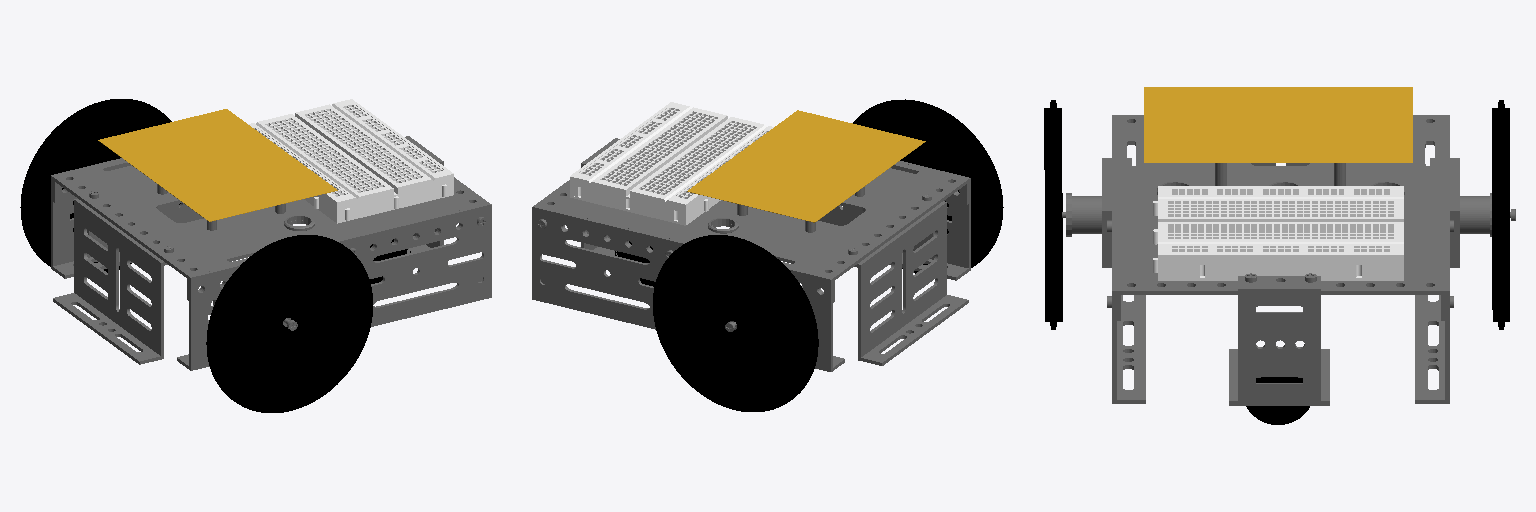
The robot description file, URDF, robot "sonar_mexatron":
<?xml version="1.0" encoding="utf-8"?>
<robot name="sonar_mexatron">


<material name="gray">
<color rgba="0.5 0.5 0.5 1.0"/>
</material>
<material name="black">
<color rgba="0 0 0 1"/>
</material>
<material name="white">
<color rgba="1 1 1 1"/>
</material>
<material name="gold">
  <color rgba="0.9 0.7 0.2 1.0"/>
</material>

<link name="base_link">
  <inertial>
    <mass value="1.0"/>
    <inertia ixx="0.015" iyy="0.0375" izz="0.0375"
    ixy="0" ixz="0" iyz="0"/>
  </inertial>
  <visual>
    <origin
      xyz="0 0 0"
      rpy="0 0 1.5708" />
    <geometry>
      <mesh
        filename="package://sonar_mexatron/meshes/chassis_rsz.stl"/>
    </geometry>
<material name="gray"/>
  </visual>
  <collision>
    <origin
      xyz="0 0 0"
      rpy="0 3 0" />
    <geometry>
      <box size='0.15 0.15 0.02'/>
    </geometry>
  </collision>
</link>

<!-- BreadBoard -->
<link name="breadboard">
  <inertial>
    <origin
      xyz="0 0 0"
      rpy="0 0 0" />
    <mass
      value="0.001" />
    <inertia
      ixx="0.01"
      ixy="0.01"
      ixz="0.01"
      iyy="0.01"
      iyz="0.01"
      izz="0.01" />
  </inertial>
  <visual>
    <origin
      xyz="0 0 0"
      rpy="0 0 0" />
    <geometry>
      <mesh
        filename="package://sonar_mexatron/meshes/breadboard_rsz.stl" />
    </geometry>
<material name="white"/>
  </visual>
  <collision>
    <origin
      xyz="0 0 0"
      rpy="0 0 0" />
    <geometry>
      <mesh
        filename="package://sonar_mexatron/meshes/breadboard_rsz.stl" />
    </geometry>
  </collision>
</link>

<joint name="breadboard_to_base" type="fixed">
  <parent link="base_link"/>
  <child link="breadboard"/>
  <origin xyz="0.034 0 0.015" rpy="0 0 1.5708"/>
</joint>

<!-- PCB-->
<link name="pcb_link">
  <inertial>
    <origin
      xyz="0 0 0"
      rpy="0 0 0" />
    <mass
      value="0.001" />
    <inertia
      ixx="0.01"
      ixy="0.01"
      ixz="0.01"
      iyy="0.01"
      iyz="0.01"
      izz="0.01" />
  </inertial>
  <visual>
    <origin
      xyz="0 0 0"
      rpy="0 0 0" />
    <geometry>
      <mesh
        filename="package://sonar_mexatron/meshes/pcb_rsz.stl" />
    </geometry>
<material name="gold"/>
  </visual>
  <collision>
    <origin
      xyz="0 0 0"
      rpy="0 0 0" />
    <geometry>
      <box size='0.06 0.09 0.01'/>
    </geometry>
  </collision>
</link>

<joint name="pcb_to_base" type="fixed">
  <origin xyz="-0.018 0 0.026" rpy="0 0 1.5708"/>
  <parent link="base_link"/>
  <child link="pcb_link"/>
  <axis xyz="0 0 0"/>
</joint>

<!--Left Wheel-->
  <link
    name="wheellft">
  <inertial>
    <mass value="0.1"/>
    <inertia ixx="5.1458e-5" iyy="5.1458e-5" izz="6.125e-5"
    ixy="0" ixz="0" iyz="0"/>
  </inertial>
    <visual>
      <origin
        xyz="0 0 0"
        rpy="0 1.5708 0" />
      <geometry>
        <mesh
          filename="package://sonar_mexatron/meshes/wheel_rsz.stl" />
      </geometry>
<material name="black"/>
    </visual>
    <collision>
      <origin
        xyz="0 0 0"
        rpy="0 0 0" />
      <geometry>
        <cylinder length="0.01" radius="0.0385"/>
      </geometry>
    </collision>
  </link>

  <joint
    name="wheelleft"
    type="continuous">
    <parent link="base_link" />
    <child link="wheellft" />
    <origin xyz="-0.0345 0.075 -0.012" rpy="-1.57 0 0"/>
    <axis xyz="0 0 1"/>
  </joint>

<!--Rigth Wheel-->
  <link
    name="wheelrgt">
  <inertial>
    <mass value="0.1"/>
    <inertia ixx="5.1458e-5" iyy="5.1458e-5" izz="6.125e-5"
    ixy="0" ixz="0" iyz="0"/>
  </inertial>
    <visual>
      <origin
        xyz="0 0 0"
        rpy="0 1.5708 0" />
      <geometry>
        <mesh
          filename="package://sonar_mexatron/meshes/wheel_rsz.stl" />
      </geometry>
<material name="black"/>
    </visual>
    <collision>
      <origin
        xyz="0 0 0"
        rpy="0 0 0" />
      <geometry>
        <cylinder length="0.01" radius="0.0385"/>
      </geometry>
    </collision>
  </link>


  <joint
    name="wheelright"
    type="continuous">
    <parent link="base_link" />
    <child link="wheelrgt" />
    <origin xyz="-0.0345 -0.075 -0.012" rpy="-1.57 0 0"/>
    <axis xyz="0 0 1"/>
  </joint>


<!-- Ball Caster--> 
  <link
    name="caster_link">
  <inertial>
    <mass value="0.1"/>
    <inertia ixx="5.1458e-5" iyy="5.1458e-5" izz="6.125e-5"
    ixy="0" ixz="0" iyz="0"/>
  </inertial>
  
    <ode>
      <mu>0</mu>
      <mu2>0</mu2>
      <fdir1> 0 0 0</fdir1>
      <slip1>0</slip1>
      <slip2>0</slip2>
    </ode>
  
    <visual>
      <origin
        xyz="0 0 0"
        rpy="0 0 0" />
      <geometry>
        <mesh
          filename="package://sonar_mexatron/meshes/ballcaster_rsz.stl" />
      </geometry>
<material name="black"/>

    </visual>
    <collision>
      <origin
        xyz="0 0 0"
        rpy="0 0 0" />
      <geometry>
        <sphere radius="0.0125"/>
      </geometry>
    </collision>
  </link>

  <joint
    name="caster_joint"
    type="fixed">
    <origin
        xyz="0.052 0 -0.034"
        rpy="0 0 0" />
    <parent
      link="base_link" />
    <child
      link="caster_link" />
    <axis
      xyz="0 0 1" />
  </joint>

<link
    name="sonar_1">
  <inertial>
    <mass value="0.1"/>
    <inertia ixx="5.1458e-5" iyy="5.1458e-5" izz="6.125e-5"
    ixy="0" ixz="0" iyz="0"/>
  </inertial>
    <visual>
      <origin
        xyz="0 0 0"
        rpy="0 0 0" />
      <geometry>
        <mesh
          filename="package://sonar_mexatron/meshes/sonar.stl" />
      </geometry>
<material name="white"/>
    </visual>
    <collision>
      <origin
        xyz="0 0 0"
        rpy="0 0 0" />
      <geometry>
        <box size="0.01 0.01 0.01"/>
      </geometry>
    </collision>
  </link>
  
  <joint
    name="sonar_1_joint"
    type="fixed">
    <origin
        xyz="0.052 0 0.03"
        rpy="0 -0.07 0" />
    <parent
      link="base_link" />
    <child
      link="sonar_1" />
    <axis
      xyz="0 0 1" />
  </joint>

<link
    name="sonar_2">
  <inertial>
    <mass value="0.1"/>
    <inertia ixx="5.1458e-5" iyy="5.1458e-5" izz="6.125e-5"
    ixy="0" ixz="0" iyz="0"/>
  </inertial>
    <visual>
      <origin
        xyz="0 0 0"
        rpy="0 0 0" />
      <geometry>
        <mesh
          filename="package://sonar_mexatron/meshes/sonar.stl" />
      </geometry>
<material name="white"/>
    </visual>
    <collision>
      <origin
        xyz="0 0 0"
        rpy="0 0 0" />
      <geometry>
        <box size="0.01 0.01 0.01"/>
      </geometry>
    </collision>
  </link>
  
  <joint
    name="sonar_2_joint"
    type="fixed">
    <origin
        xyz="0.052 0.05 0.03"
        rpy="0 -0.07 1.2" />
    <parent
      link="base_link" />
    <child
      link="sonar_2" />
    <axis
      xyz="0 0 1" />
  </joint>

<link
    name="sonar_3">
  <inertial>
    <mass value="0.1"/>
    <inertia ixx="5.1458e-5" iyy="5.1458e-5" izz="6.125e-5"
    ixy="0" ixz="0" iyz="0"/>
  </inertial>
    <visual>
      <origin
        xyz="0 0 0"
        rpy="0 0 0" />
      <geometry>
        <mesh
          filename="package://sonar_mexatron/meshes/sonar.stl" />
      </geometry>
<material name="white"/>
    </visual>
    <collision>
      <origin
        xyz="0 0 0"
        rpy="0 0 0" />
      <geometry>
        <box size="0.01 0.01 0.01"/>
      </geometry>
    </collision>
  </link>
  
  <joint
    name="sonar_3_joint"
    type="fixed">
    <origin
        xyz="0.052 -0.05 0.03"
        rpy="0 -0.07 -1.2" />
    <parent
      link="base_link" />
    <child
      link="sonar_3" />
    <axis
      xyz="0 0 1" />
  </joint>


<gazebo>
  <plugin name="differential_drive_controller" filename="libgazebo_ros_diff_drive.so">
    <commandTopic>cmd_vel</commandTopic>
    <odometryTopic>odom</odometryTopic>
    <odometryFrame>odom</odometryFrame>
    <odometrySource>world</odometrySource>
    <publishOdomTF>true</publishOdomTF>
    <robotBaseFrame>base_link</robotBaseFrame>
    <publishWheelTF>false</publishWheelTF>
    <publishTf>true</publishTf>
    <publishWheelJointState>true</publishWheelJointState>
    <legacyMode>false</legacyMode>
    <updateRate>30</updateRate>
    <leftJoint>wheelleft</leftJoint>
    <rightJoint>wheelright</rightJoint>
    <wheelSeparation>0.78</wheelSeparation>
    <wheelDiameter>0.1</wheelDiameter>
    <wheelAcceleration>0.5</wheelAcceleration>
    <wheelTorque>50</wheelTorque>
    <rosDebugLevel>na</rosDebugLevel>
  </plugin>
</gazebo>

<gazebo reference="base_link">
  <material>Gazebo/Grey</material>
</gazebo>
<gazebo reference="breadboard">
  <material>Gazebo/White</material>
</gazebo>
<gazebo reference="pcb_link">
  <material>Gazebo/Gold</material>
</gazebo>
<gazebo reference="sonar_1">
  <material>Gazebo/White</material>
</gazebo>
<gazebo reference="sonar_2">
  <material>Gazebo/White</material>
</gazebo>
<gazebo reference="sonar_3">
  <material>Gazebo/White</material>
</gazebo>
<gazebo reference="caster_link">
  <material>Gazebo/Black</material>
  <mu1>0</mu1>
  <mu2>0</mu2>
<minDepth>0.001</minDepth>
  <kp>100000000</kp>
  <kd>1</kd>
</gazebo>
<gazebo reference="wheelrgt">
  <material>Gazebo/Black</material>
  <minDepth>0.001</minDepth>
  <kp>100000000</kp>
  <kd>1</kd>
</gazebo>
<gazebo reference="wheellft">
  <material>Gazebo/Black</material>
  <minDepth>0.001</minDepth>
  <kp>100000000</kp>
  <kd>1</kd>
</gazebo>


<gazebo reference="sonar_1">        
   <sensor type="ray" name="front_sonar">
      <pose>0 0 0 0 0 0</pose>
      <visualize>true</visualize>
      <update_rate>50</update_rate>
      <ray>
         <scan>
            <horizontal>
               <samples>10</samples>
               <resolution>1</resolution> 
               <min_angle>-0.14835</min_angle>
               <max_angle>0.14835</max_angle>
            </horizontal>
            <vertical>
               <samples>10</samples>
               <resolution>1</resolution> 
               <min_angle>-0.02</min_angle>
               <max_angle>0.02</max_angle> 
            </vertical>
         </scan>
         <range>
            <min>0.01</min>
            <max>10</max>
            <resolution>0.02</resolution>
         </range>
      </ray>
      <plugin filename="libgazebo_ros_range.so" name="gazebo_ros_range">
         <gaussianNoise>0.005</gaussianNoise>
         <alwaysOn>true</alwaysOn>
         <updateRate>50</updateRate>
         <topicName>front_sonar</topicName>
         <frameName>sonar_1</frameName>
         <radiation>INFRARED</radiation>
         <fov>0.1</fov>
      </plugin>
   </sensor>  
   </gazebo>

<gazebo reference="sonar_2">        
   <sensor type="ray" name="left_sonar">
      <pose>0 0 0 0 0 0</pose>
      <visualize>true</visualize>
      <update_rate>50</update_rate>
      <ray>
         <scan>
            <horizontal>
               <samples>10</samples>
               <resolution>1</resolution> 
               <min_angle>-0.14835</min_angle>
               <max_angle>0.14835</max_angle>
            </horizontal>
            <vertical>
               <samples>10</samples>
               <resolution>1</resolution> 
               <min_angle>-0.02</min_angle>
               <max_angle>0.02</max_angle> 
            </vertical>
         </scan>
         <range>
            <min>0.01</min>
            <max>10</max>
            <resolution>0.02</resolution>
         </range>
      </ray>
      <plugin filename="libgazebo_ros_range.so" name="gazebo_ros_range">
         <gaussianNoise>0.005</gaussianNoise>
         <alwaysOn>true</alwaysOn>
         <updateRate>50</updateRate>
         <topicName>left_sonar</topicName>
         <frameName>sonar_2</frameName>
         <radiation>INFRARED</radiation>
         <fov>0.1</fov>
      </plugin>
   </sensor>  
   </gazebo>

<gazebo reference="sonar_3">        
   <sensor type="ray" name="right_sonar">
      <pose>0 0 0 0 0 0</pose>
      <visualize>true</visualize>
      <update_rate>50</update_rate>
      <ray>
         <scan>
            <horizontal>
               <samples>10</samples>
               <resolution>1</resolution> 
               <min_angle>-0.14835</min_angle>
               <max_angle>0.14835</max_angle>
            </horizontal>
            <vertical>
               <samples>10</samples>
               <resolution>1</resolution> 
               <min_angle>-0.02</min_angle>
               <max_angle>0.02</max_angle> 
            </vertical>
         </scan>
         <range>
            <min>0.01</min>
            <max>10</max>
            <resolution>0.02</resolution>
         </range>
      </ray>
      <plugin filename="libgazebo_ros_range.so" name="gazebo_ros_range">
         <gaussianNoise>0.005</gaussianNoise>
         <alwaysOn>true</alwaysOn>
         <updateRate>50</updateRate>
         <topicName>right_sonar</topicName>
         <frameName>sonar_3</frameName>
         <radiation>INFRARED</radiation>
         <fov>0.1</fov>
      </plugin>
   </sensor>  
   </gazebo>


</robot>

--- Render facts (derived) ---
3 views of the same robot in one strip: view 1: azimuth 30°, elevation 25°; view 2: azimuth 150°, elevation 25°; view 3: azimuth 270°, elevation 25° (orthographic).
Robot: sonar_mexatron — 9 links, 8 joints (2 continuous, 6 fixed); root link base_link; default pose: every joint at zero.
Visible links, largest first — view 1: base_link, wheelrgt, pcb_link, breadboard, wheellft; view 2: base_link, wheellft, pcb_link, breadboard, wheelrgt; view 3: base_link, breadboard, pcb_link, wheellft, wheelrgt, caster_link.
Link boxes in pixels (<box>): base_link: <box>51,136,491,370</box>; wheelrgt: <box>206,235,372,412</box>; pcb_link: <box>98,109,337,221</box>; breadboard: <box>248,99,453,223</box>; wheellft: <box>20,99,180,272</box>; base_link: <box>532,138,970,371</box>; wheellft: <box>653,235,818,411</box>; pcb_link: <box>687,110,925,222</box>; breadboard: <box>570,102,773,225</box>; wheelrgt: <box>853,99,1003,273</box>; base_link: <box>1062,115,1515,405</box>; breadboard: <box>1153,186,1403,280</box>; pcb_link: <box>1144,87,1412,162</box>; wheellft: <box>1492,100,1509,329</box>; wheelrgt: <box>1044,100,1062,329</box>; caster_link: <box>1246,377,1309,424</box>.
Bounding box of the posed robot: 0.1535 × 0.1578 × 0.077 m (x, y, z).
Meshes: 6 distinct files referenced, 6 mesh visuals loaded (5 binary STL); not drawn: 3 (reference not matched to a file when rendering).
